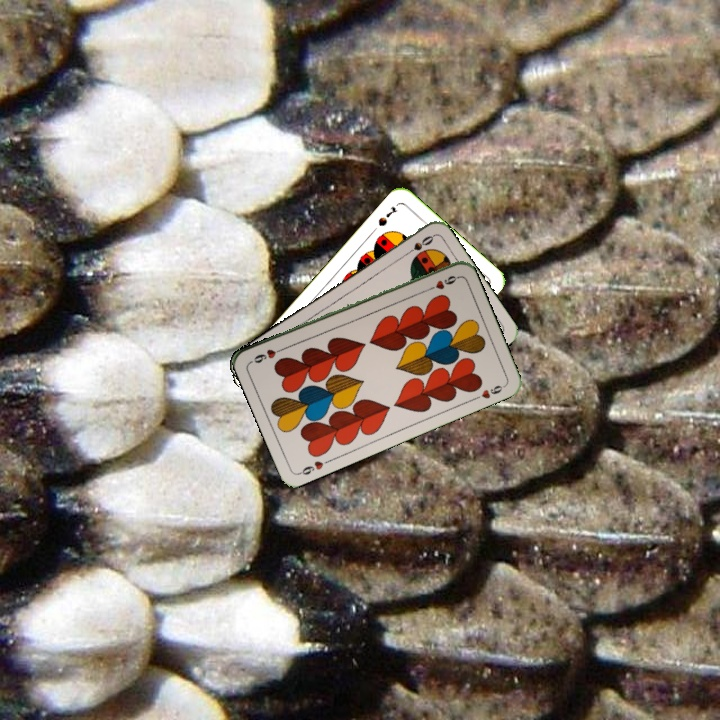H9: (422, 271, 461, 294), (295, 455, 333, 478)
S7: (374, 202, 400, 229)
SO: (400, 231, 436, 259)
